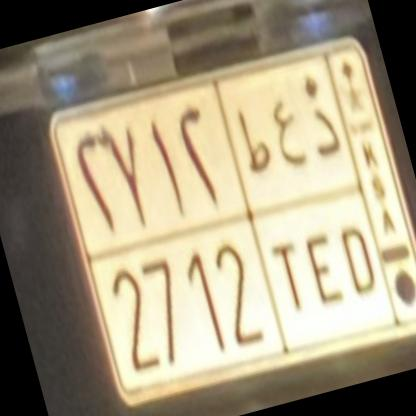english: (80, 175, 400, 401)
